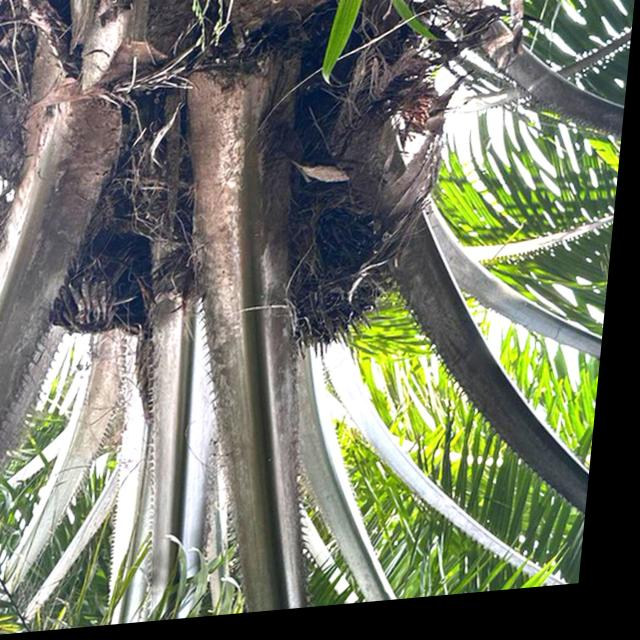ripe: (267, 195, 408, 376)
